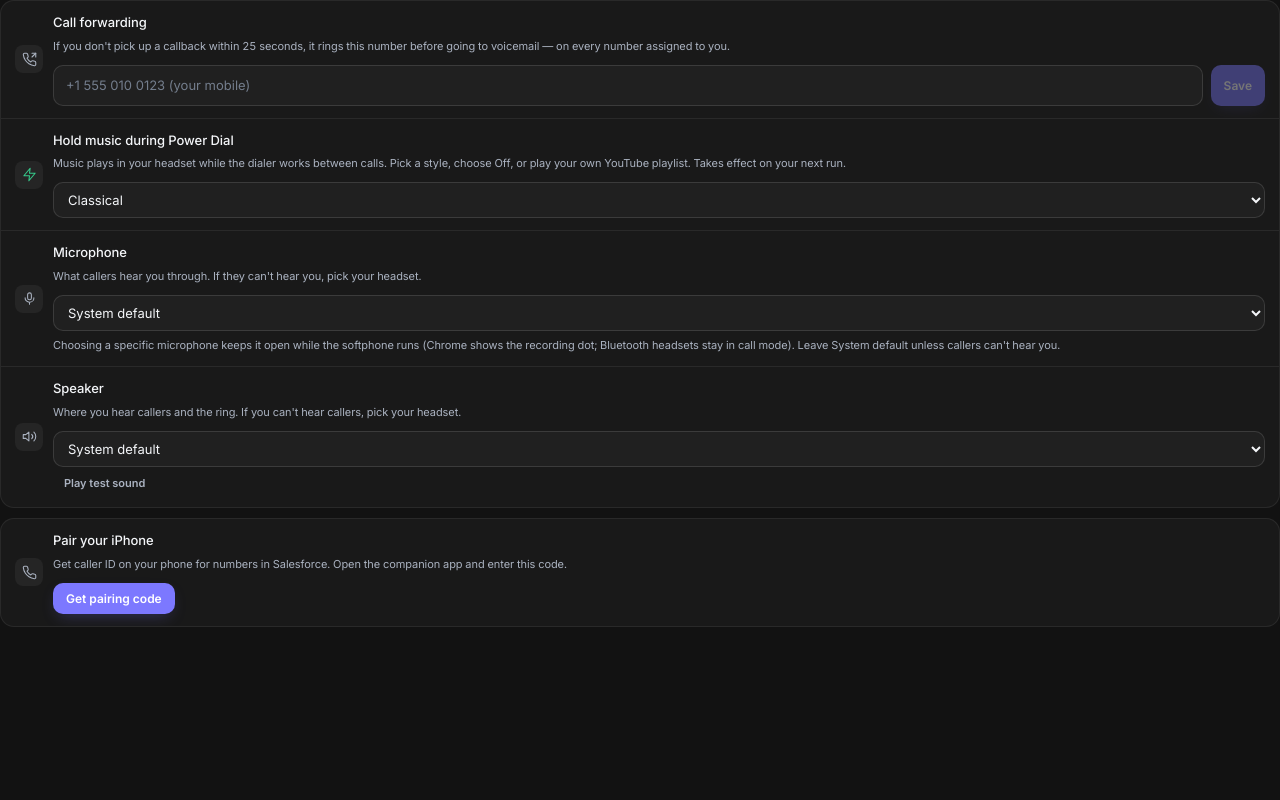
Test: SettingsPanel picker — PATCH shapes, toasts, YouTube link errors › a bad link shows the sentence inline and does not PATCH
Select "YouTube" in the dropdown named "Hold music": x=659, y=200 [53,182,1265,218]
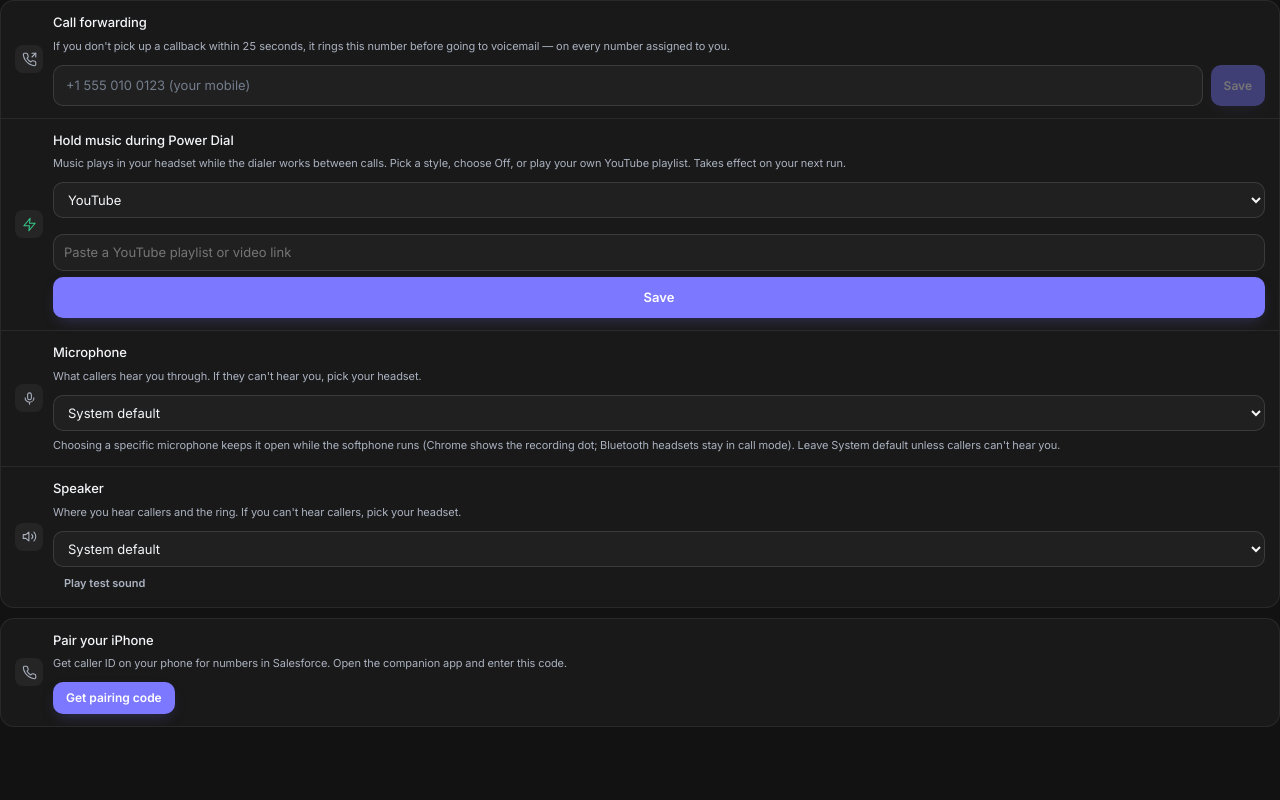
In the field with placeholder "Paste a YouTube playlist or video link": x=659, y=253 [53,234,1265,271], type "https://vimeo.com/1"
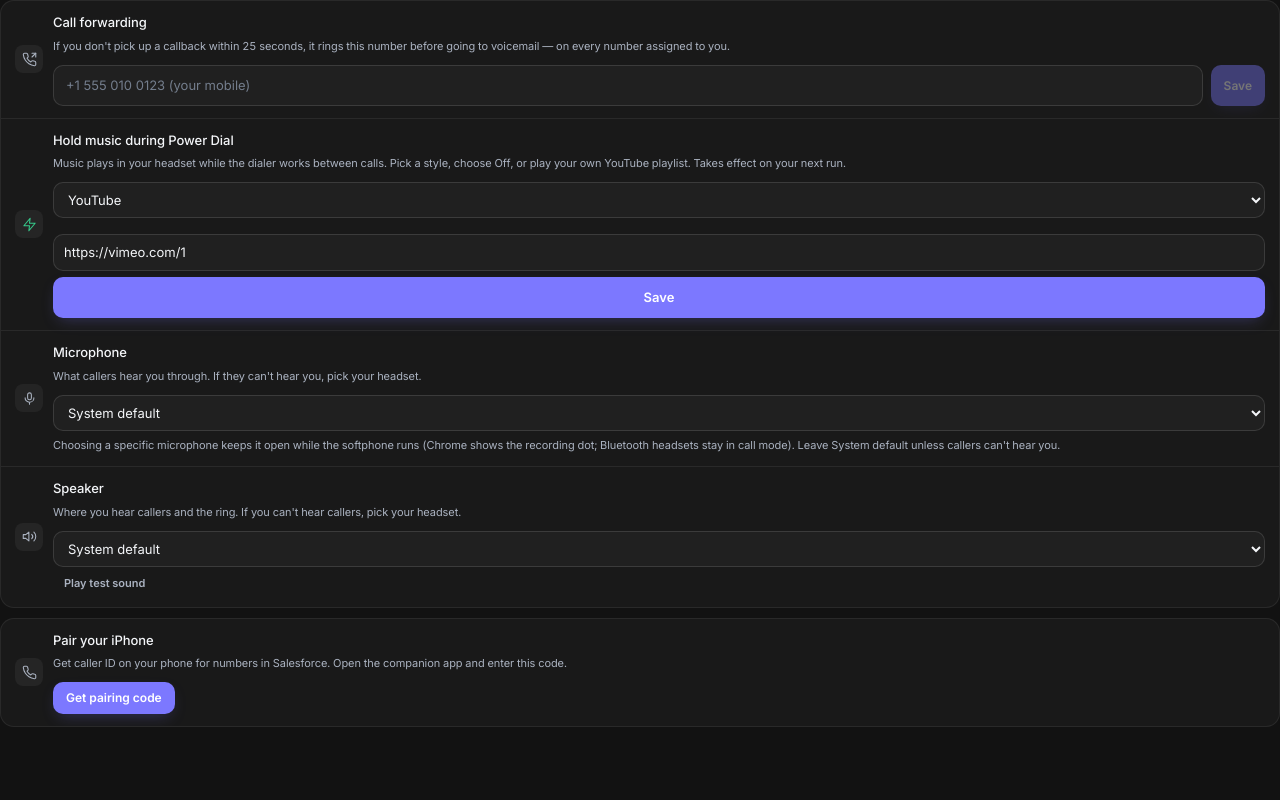
Click the button "Save" below "Hold music during Power Dial": x=659, y=298 [53,277,1265,318]
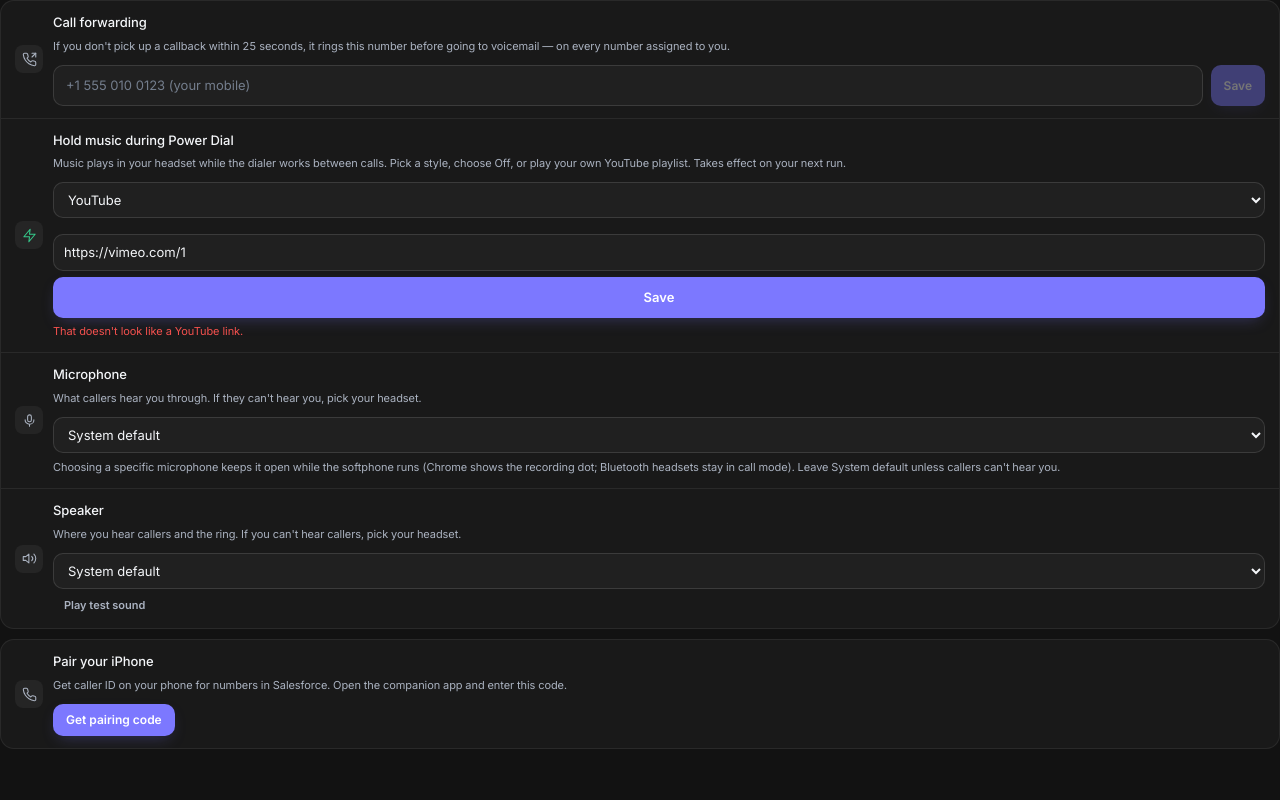
Now the text "That doesn't look like a YouTube link." is shown, box [53,324,243,338]
